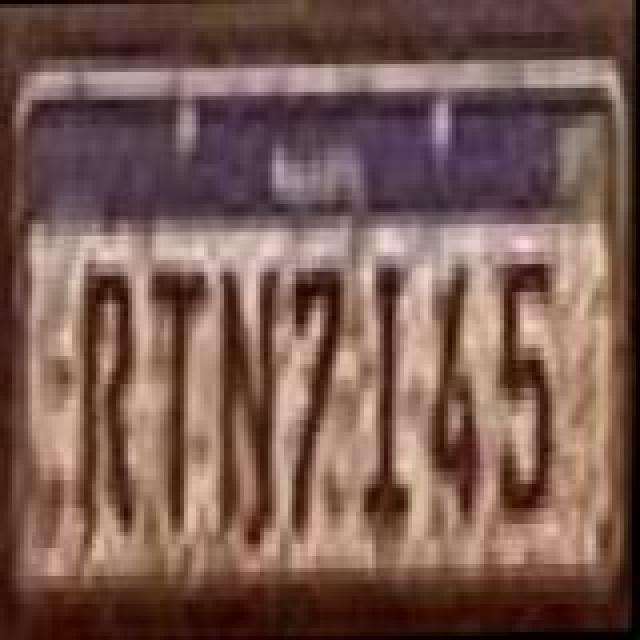4: (430, 268, 486, 524)
5: (494, 256, 558, 528)
7: (286, 270, 350, 542)
I: (360, 258, 420, 518)
N: (216, 264, 284, 536)
R: (78, 268, 142, 540)
T: (150, 264, 214, 536)
